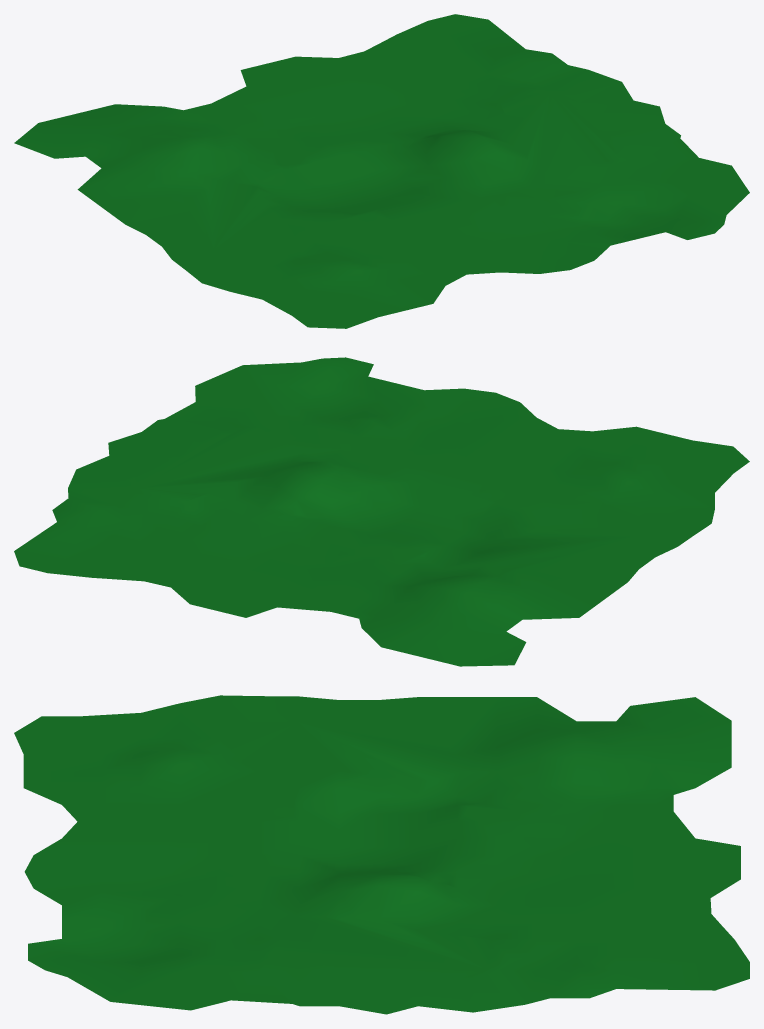
The model's file is Mapa Bosque Batalla Suelo.fbx.
The picture shows the model from 3 angles, top to bottom: view 1: azimuth 30°, elevation 25°; view 2: azimuth 150°, elevation 25°; view 3: azimuth 270°, elevation 25°; orthographic projection. The views are drawn at different scales.
Visible parts, largest first — view 1: BosqueBatallaSuelo; view 2: BosqueBatallaSuelo; view 3: BosqueBatallaSuelo.
Boxes of the visible parts, bbox=[...] form: BosqueBatallaSuelo: bbox=[14, 14, 749, 328]; BosqueBatallaSuelo: bbox=[14, 357, 749, 666]; BosqueBatallaSuelo: bbox=[14, 695, 749, 1014].
Bounding box in the file's own units: 35754 × 34852 × 1453.
